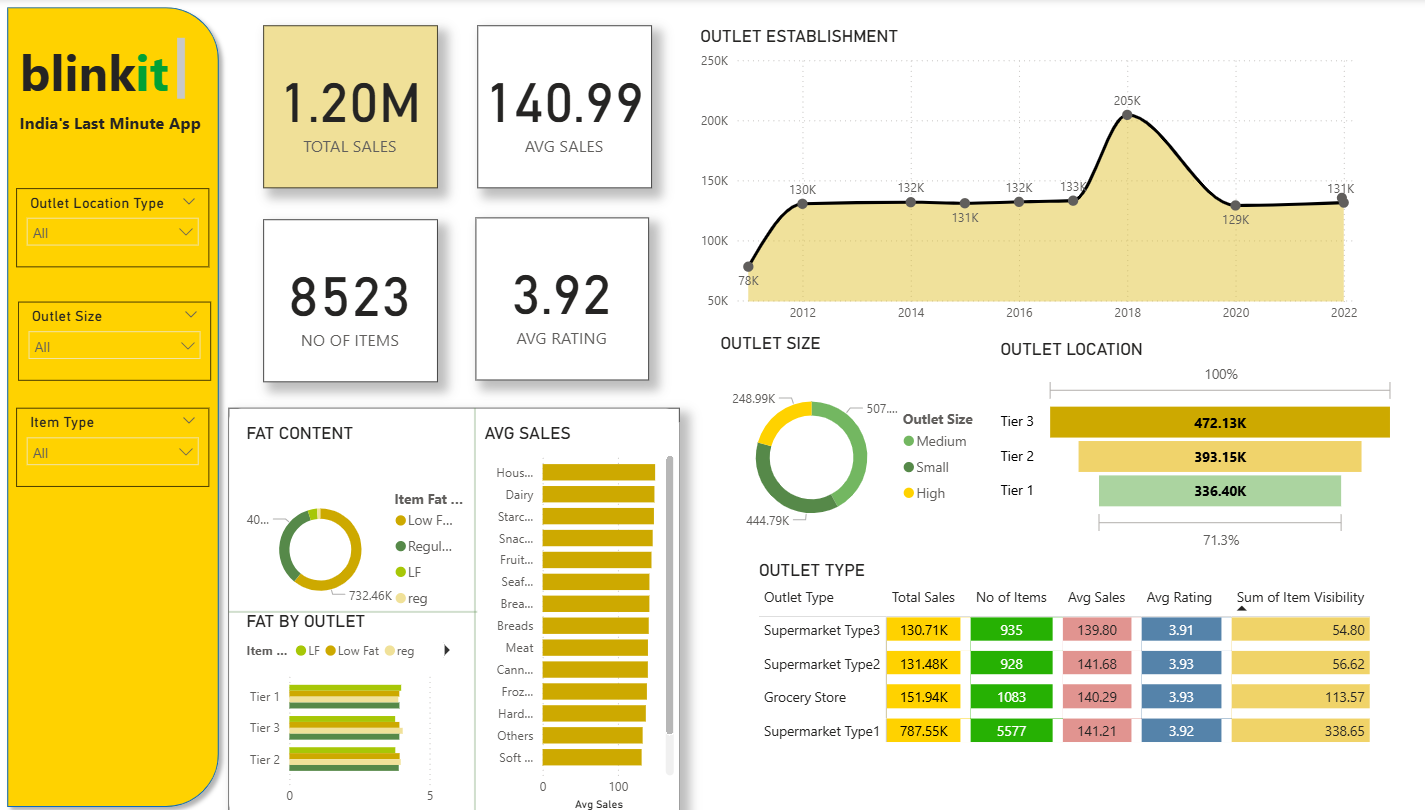

Layout of this report page (visuals, bound fields, positions):
{"tool":"powerbi","page":{"name":"Page 1","canvas":[1400,800],"ordinal":0},"visuals":[{"type":"shape","box":[0,0,225,799.9],"z":0},{"type":"textbox","box":[15.6,34.4,171.8,71.9],"z":1000},{"type":"textbox","box":[16.5,106,188.5,33],"z":2000},{"type":"card","fields":{"Values":["BlinkIT Grocery Data.Total Sales"]},"box":[259,27.3,170.4,159.1],"z":3000},{"type":"card","fields":{"Values":["BlinkIT Grocery Data.Avg Sales"]},"box":[468.1,27.3,170.4,159.1],"z":4000},{"type":"card","fields":{"Values":["BlinkIT Grocery Data.No of Items"]},"box":[259,215.9,170.4,159.1],"z":5000},{"type":"card","fields":{"Values":["BlinkIT Grocery Data.Avg Rating"]},"box":[467.3,215.5,169.2,159.1],"z":6000},{"type":"shape","box":[225,399.9,440.8,399.9],"z":7000},{"type":"donutChart","title":"FAT CONTENT","fields":{"Y":["BlinkIT Grocery Data.Total Sales"],"Category":["BlinkIT Grocery Data.Item Fat Content"]},"box":[238.6,415.8,229.5,229.5],"z":8000},{"type":"clusteredBarChart","title":"FAT BY OUTLET","fields":{"Series":["BlinkIT Grocery Data.Item Fat Content"],"Category":["BlinkIT Grocery Data.Outlet Location Type"],"Y":["BlinkIT Grocery Data.Avg Rating"]},"box":[238.6,599.9,220.4,200],"z":9000},{"type":"shape","box":[225,520.4,243.1,159.1],"z":10000},{"type":"shape","box":[381.8,399.9,170.4,399.9],"z":11000},{"type":"clusteredBarChart","title":"AVG SALES ","fields":{"Y":["BlinkIT Grocery Data.Avg Sales"],"Category":["BlinkIT Grocery Data.Item Type"]},"box":[470.4,415.8,195.4,384],"z":12000},{"type":"lineChart","title":"OUTLET ESTABLISHMENT","fields":{"Category":["BlinkIT Grocery Data.Outlet Establishment Year"],"Y":["BlinkIT Grocery Data.Total Sales"]},"box":[681.7,27.3,652.2,299.9],"z":13000},{"type":"donutChart","title":"OUTLET SIZE","fields":{"Y":["BlinkIT Grocery Data.Total Sales"],"Category":["BlinkIT Grocery Data.Outlet Size"]},"box":[701.4,327.3,274.3,224.4],"z":14000},{"type":"funnel","title":"OUTLET LOCATION","fields":{"Category":["BlinkIT Grocery Data.Outlet Location Type"],"Y":["Sum(BlinkIT Grocery Data.Sales)"]},"box":[975.7,333.5,395.9,212],"z":15000},{"type":"pivotTable","title":"OUTLET TYPE","fields":{"Rows":["BlinkIT Grocery Data.Outlet Type"],"Values":["BlinkIT Grocery Data.Total Sales","BlinkIT Grocery Data.No of Items","BlinkIT Grocery Data.Avg Sales","BlinkIT Grocery Data.Avg Rating","Sum(BlinkIT Grocery Data.Item Visibility)"]},"box":[738.5,549.9,631.7,250],"z":16000},{"type":"slicer","fields":{"Values":["BlinkIT Grocery Data.Outlet Location Type"]},"box":[18.2,186.3,188.6,77.3],"z":17000},{"type":"slicer","fields":{"Values":["BlinkIT Grocery Data.Outlet Size"]},"box":[20.5,297.7,188.6,77.3],"z":18000},{"type":"slicer","fields":{"Values":["BlinkIT Grocery Data.Item Type"]},"box":[18.2,399.9,188.6,77.3],"z":19000}]}

Visuals, with their boxes in screenshot pixels (x1, y1, x2, y2), scaled from the page's 1400x800 canvas onto the 1425x810 screenshot:
shape: rect(0, 0, 229, 809)
textbox: rect(16, 35, 191, 108)
textbox: rect(17, 107, 209, 141)
card - BlinkIT Grocery Data.Total Sales: rect(264, 28, 437, 189)
card - BlinkIT Grocery Data.Avg Sales: rect(476, 28, 650, 189)
card - BlinkIT Grocery Data.No of Items: rect(264, 219, 437, 380)
card - BlinkIT Grocery Data.Avg Rating: rect(476, 218, 648, 379)
shape: rect(229, 405, 678, 809)
"FAT CONTENT" donutChart: rect(243, 421, 476, 653)
"FAT BY OUTLET" clusteredBarChart: rect(243, 607, 467, 809)
shape: rect(229, 527, 476, 688)
shape: rect(389, 405, 562, 809)
"AVG SALES " clusteredBarChart: rect(479, 421, 678, 809)
"OUTLET ESTABLISHMENT" lineChart: rect(694, 28, 1358, 331)
"OUTLET SIZE" donutChart: rect(714, 331, 993, 559)
"OUTLET LOCATION" funnel: rect(993, 338, 1396, 552)
"OUTLET TYPE" pivotTable: rect(752, 557, 1395, 809)
slicer - BlinkIT Grocery Data.Outlet Location Type: rect(19, 189, 210, 267)
slicer - BlinkIT Grocery Data.Outlet Size: rect(21, 301, 213, 380)
slicer - BlinkIT Grocery Data.Item Type: rect(19, 405, 210, 483)
